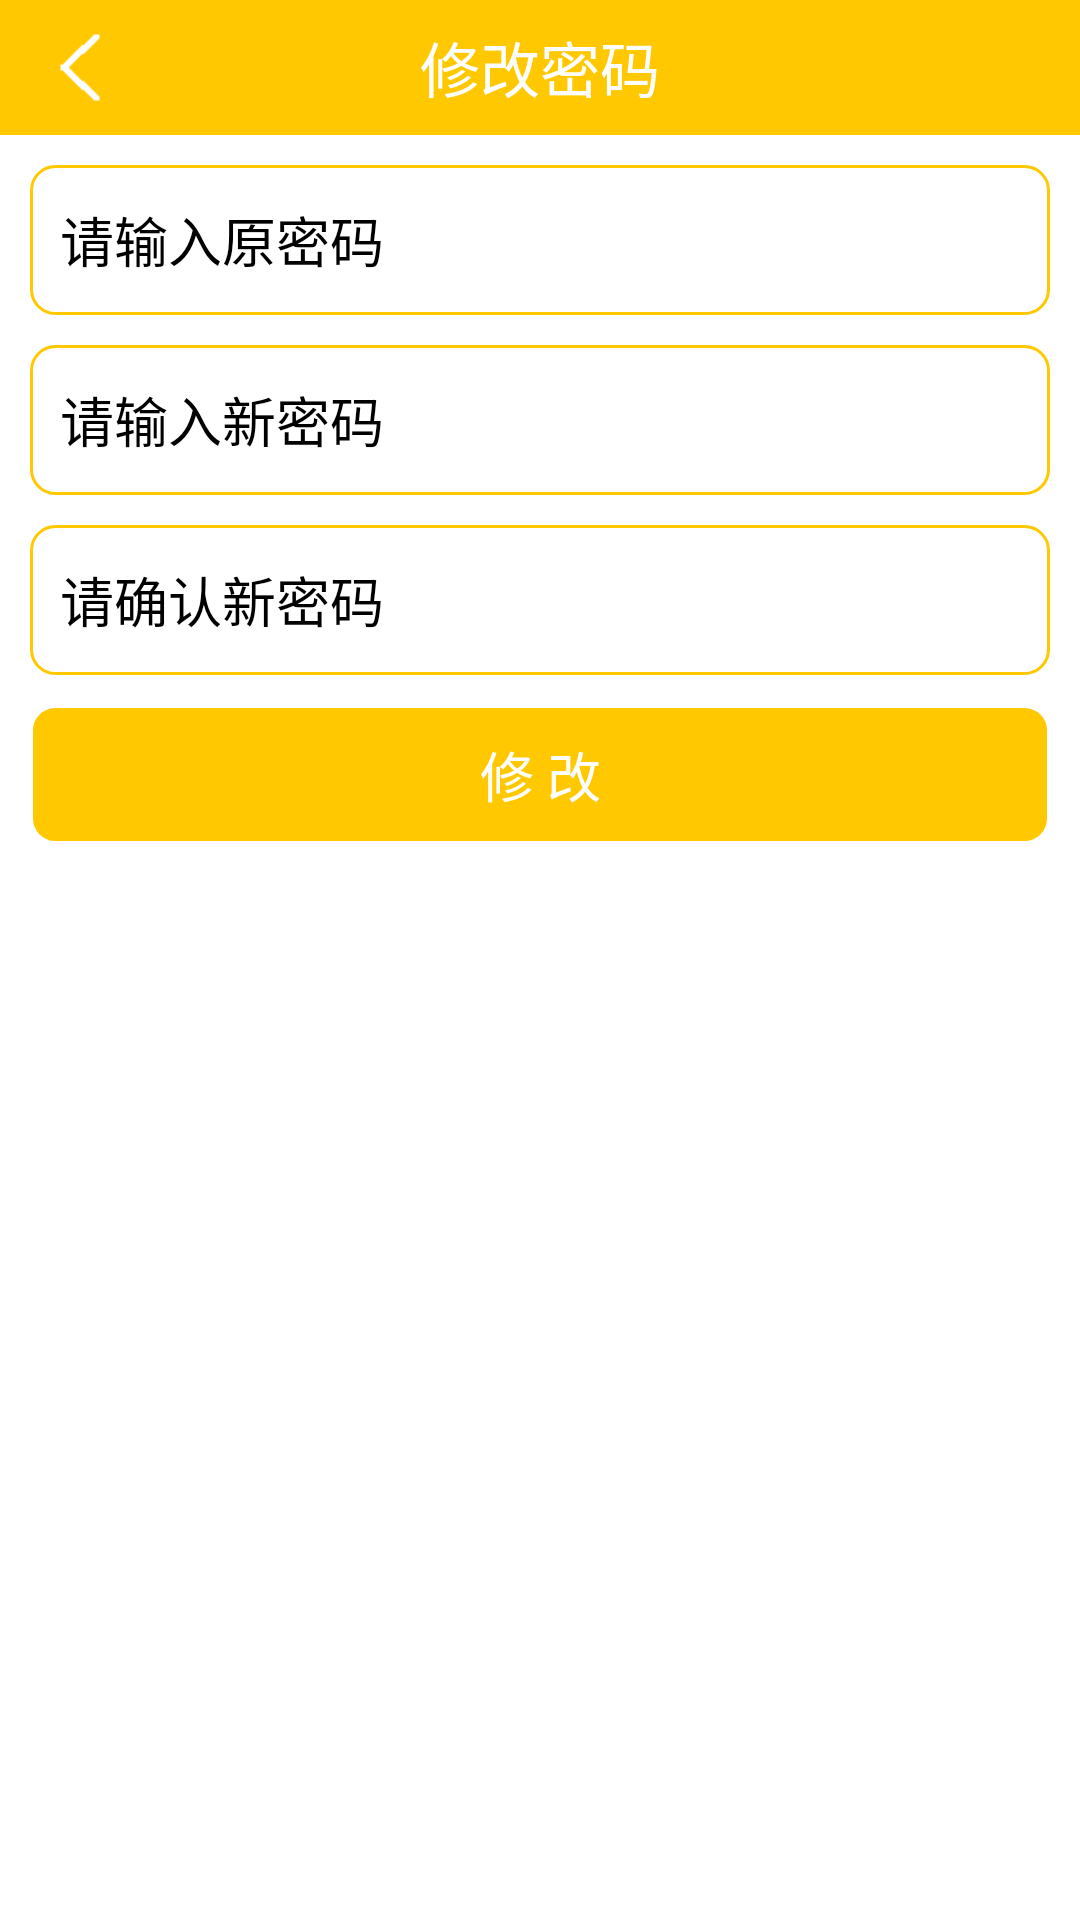

Icon click points for this 1080w x 1920h phone screenshot, format [x,y]:
back: [80,67]
